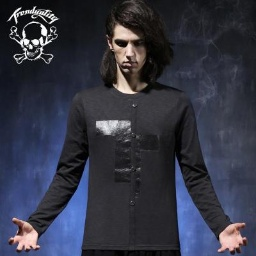face: (102, 2, 169, 89)
